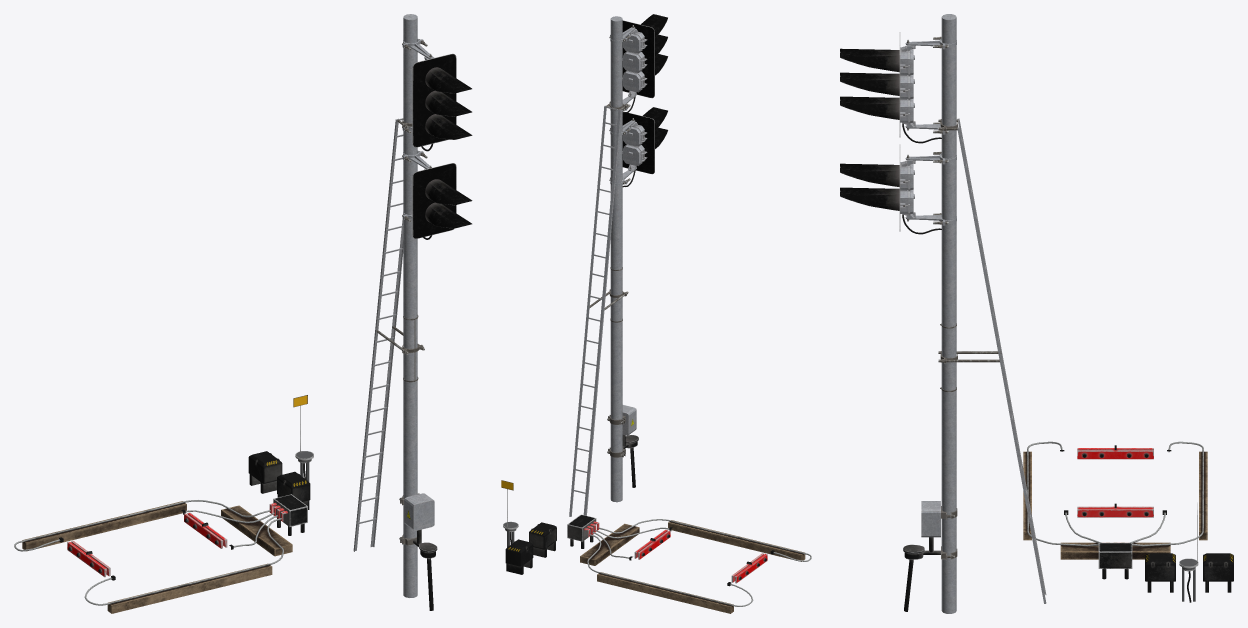
File: RM_sig_P_MM1_YGR+YW_3+2_rout.gltf
3 renders of one model, left to right at view 1: azimuth 30°, elevation 25°; view 2: azimuth 150°, elevation 25°; view 3: azimuth 270°, elevation 25°, orthographic. The views are drawn at different scales.
Parts seen in each view (by area): view 1: Светофор 3+2, Изостык; view 2: Светофор 3+2, Изостык; view 3: Светофор 3+2, Изостык.
Part boxes in pixels (x1,y1,x2,y2): Светофор 3+2: (353,14,472,610); Изостык: (14,395,313,613); Светофор 3+2: (569,14,668,516); Изостык: (501,480,811,613); Светофор 3+2: (840,14,1046,613); Изостык: (1023,441,1233,602).
Bounding box in the file's own units: 4.1 × 7.57 × 4.55.
Materials: 2 (2 with a texture image).
